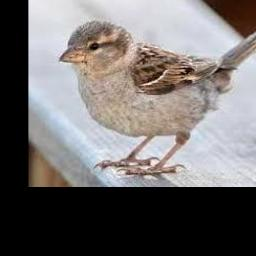Sparrow: (59, 20, 256, 174)
